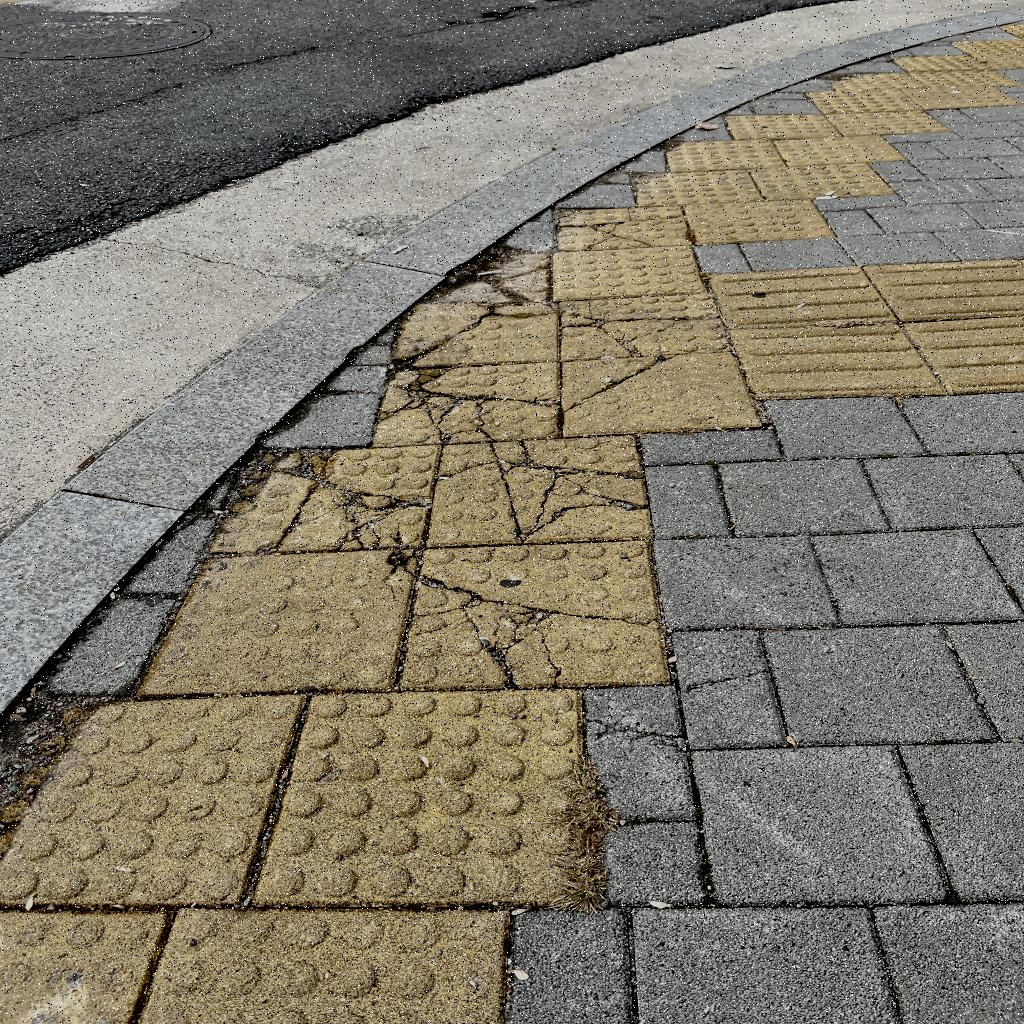Stop block broken: (396, 541, 667, 688), (206, 443, 442, 553), (426, 436, 650, 547), (370, 357, 563, 446), (388, 298, 559, 368), (557, 293, 727, 359), (556, 203, 691, 250)
Stop block normal: (255, 690, 586, 902), (665, 138, 784, 171)
